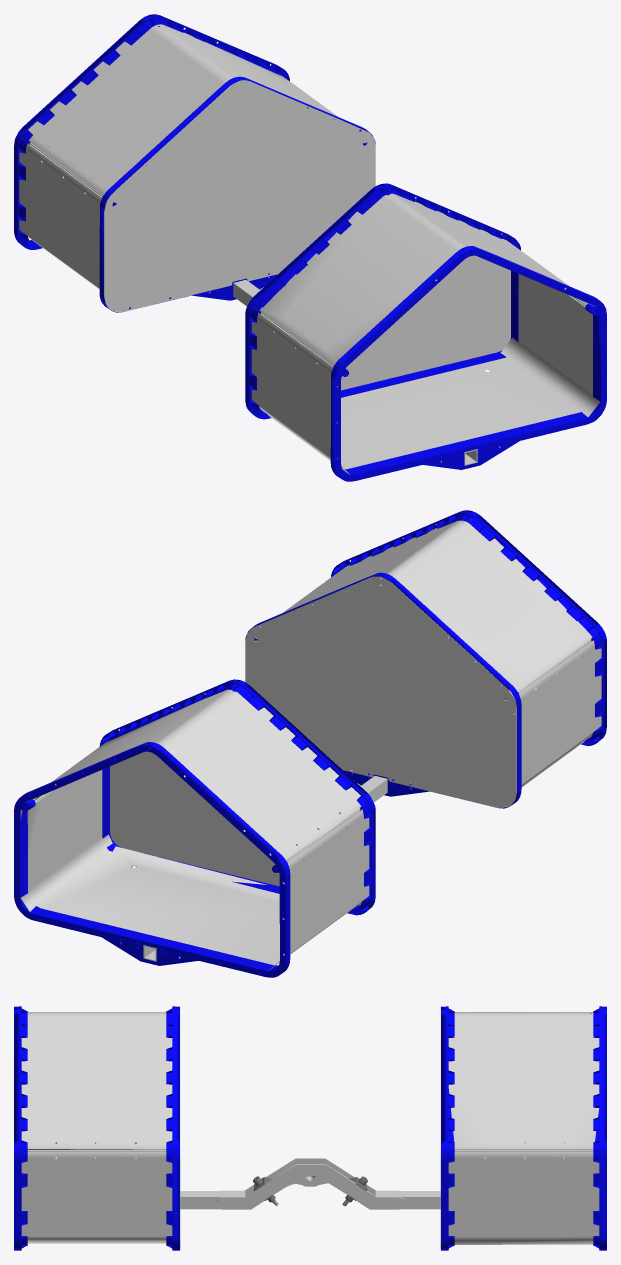
Rendered from blue_hive.glb.
3 views of the same model, one above another, from view 1: azimuth 30°, elevation 25°; view 2: azimuth 150°, elevation 25°; view 3: azimuth 270°, elevation 25° (orthographic). The views are drawn at different scales.
Visible parts, largest first — view 1: am-5873: Goal Pivot Bracket, am-5866-blue: Blue Goal Rib; view 2: am-5873: Goal Pivot Bracket, am-5866-blue: Blue Goal Rib; view 3: am-5873: Goal Pivot Bracket, am-5866-blue: Blue Goal Rib, am-5864: Pivot Damper Holder.
Part boxes in pixels (x1,y1,x2,y2): am-5873: Goal Pivot Bracket: [19, 24, 599, 474]; am-5866-blue: Blue Goal Rib: [14, 14, 606, 481]; am-5873: Goal Pivot Bracket: [20, 520, 601, 970]; am-5866-blue: Blue Goal Rib: [14, 510, 606, 977]; am-5873: Goal Pivot Bracket: [21, 1007, 599, 1249]; am-5866-blue: Blue Goal Rib: [14, 1006, 606, 1250]; am-5864: Pivot Damper Holder: [253, 1176, 367, 1202].
Bounding box in the file's own units: 0.5334 × 0.4085 × 1.09.
